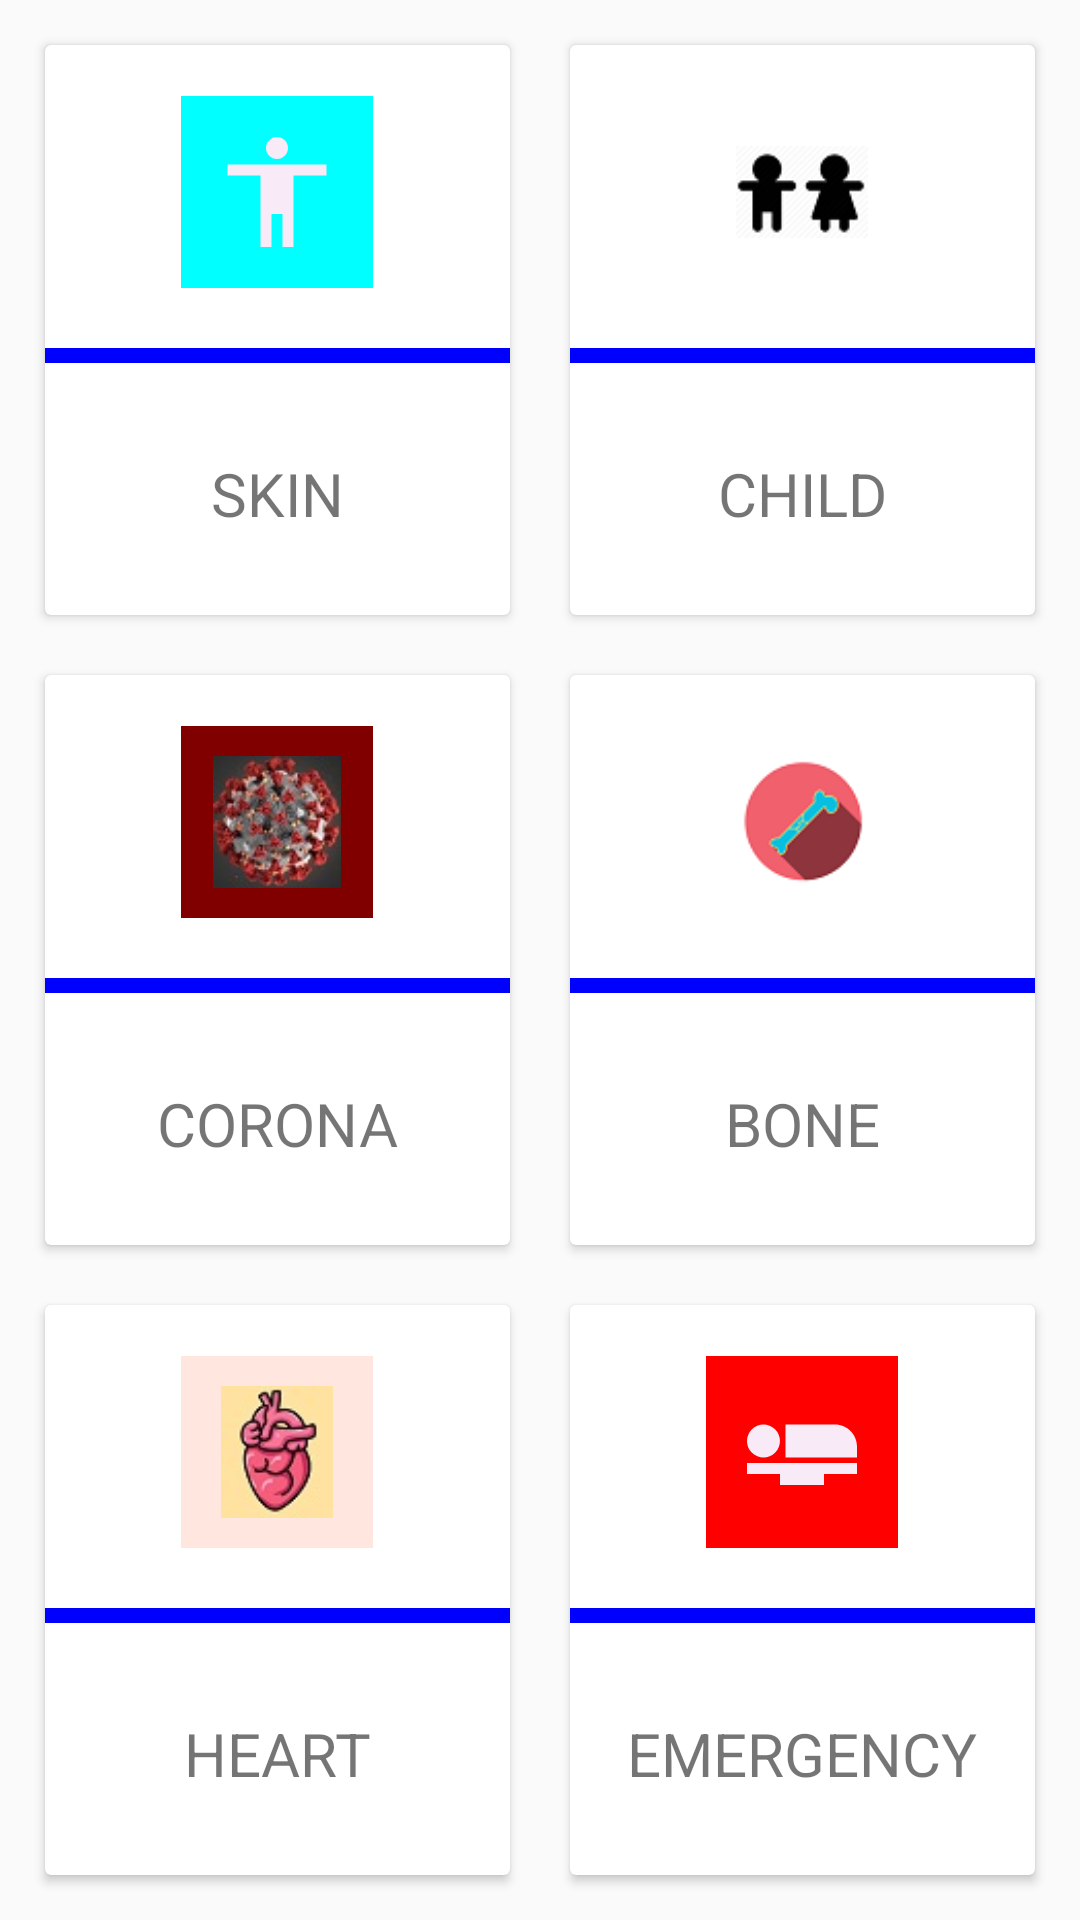

Where to tap for icons on this 1080x1920 app screen, as point (x, y):
chorona: point (277, 822)
